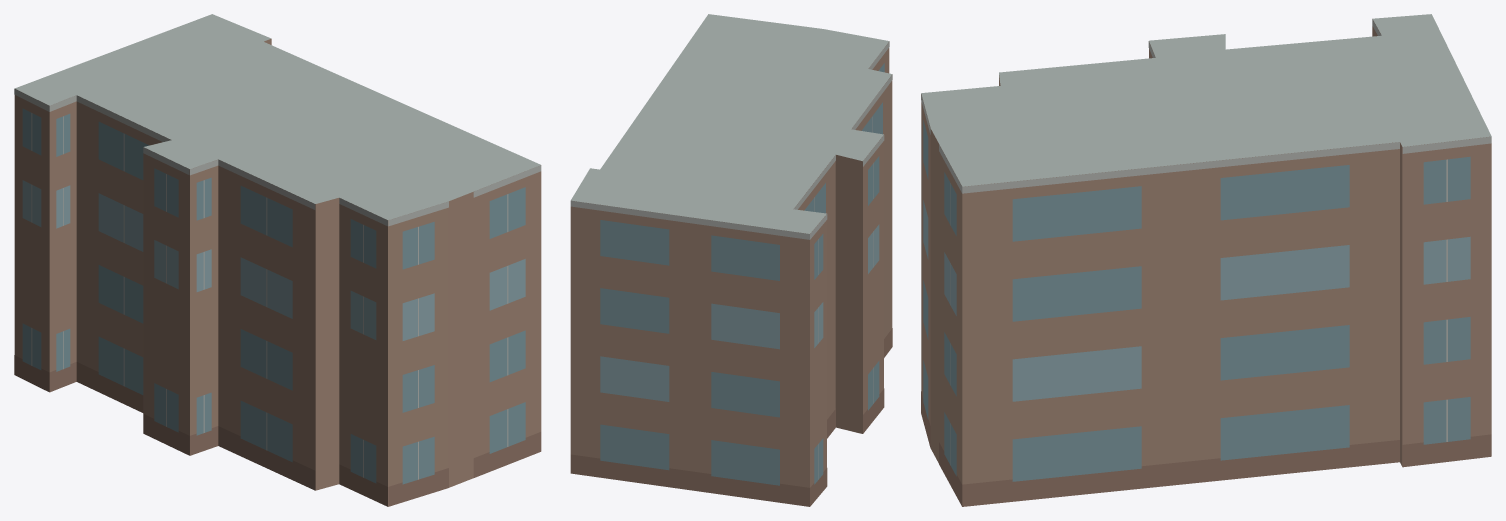
File: survey-upis-32458529.glb
The picture shows the model from 3 angles, left to right: view 1: azimuth 30°, elevation 25°; view 2: azimuth 150°, elevation 25°; view 3: azimuth 270°, elevation 25°; orthographic projection. The views are drawn at different scales.
Visible parts, largest first — view 1: survey-upis-32458529.tmp; view 2: survey-upis-32458529.tmp; view 3: survey-upis-32458529.tmp.
Part boxes in pixels (box(x1,y1,x2,y2)): survey-upis-32458529.tmp: box(14, 14, 541, 506); survey-upis-32458529.tmp: box(570, 14, 892, 506); survey-upis-32458529.tmp: box(921, 14, 1491, 506).
Bounding box in the file's own units: 13.01 × 11.24 × 18.16.
